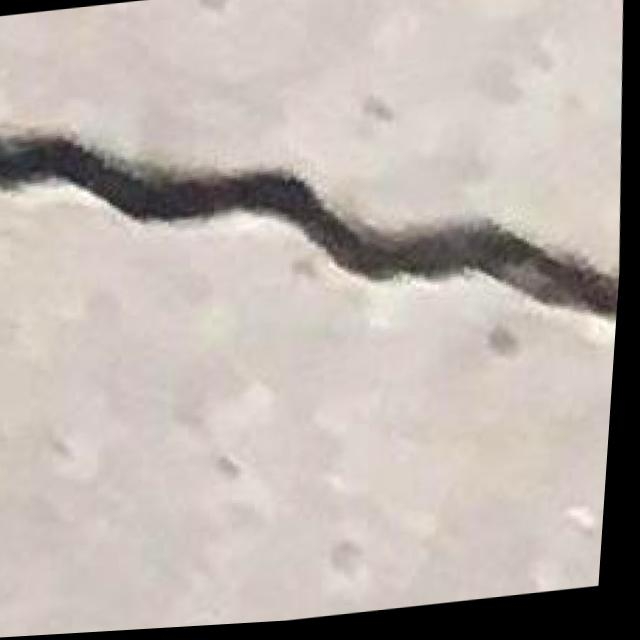Crack: (0, 55, 636, 397)
